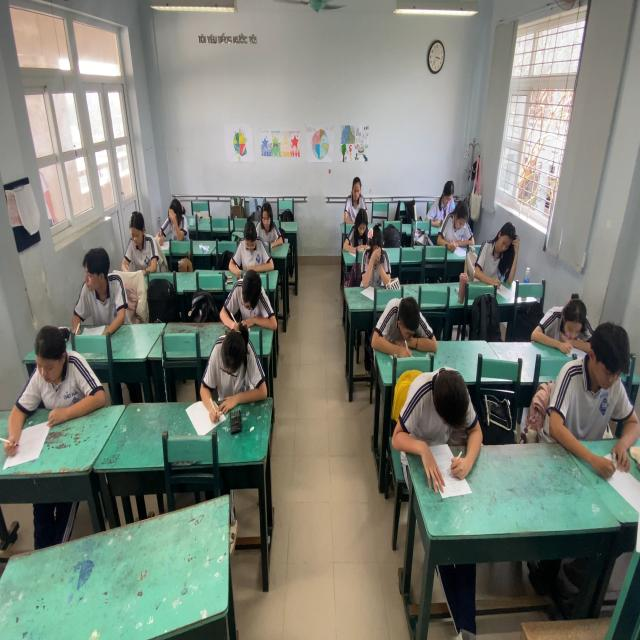not_cheating: (550, 311, 637, 478), (395, 356, 486, 474), (18, 326, 96, 428), (66, 244, 125, 343), (368, 290, 439, 358), (536, 280, 597, 358), (463, 220, 521, 294), (214, 324, 257, 421), (353, 231, 403, 298), (229, 260, 275, 329), (115, 206, 157, 274), (436, 193, 473, 252), (234, 219, 270, 275), (156, 193, 187, 242), (343, 204, 372, 256), (253, 200, 282, 247), (437, 174, 456, 223), (347, 174, 365, 212)
